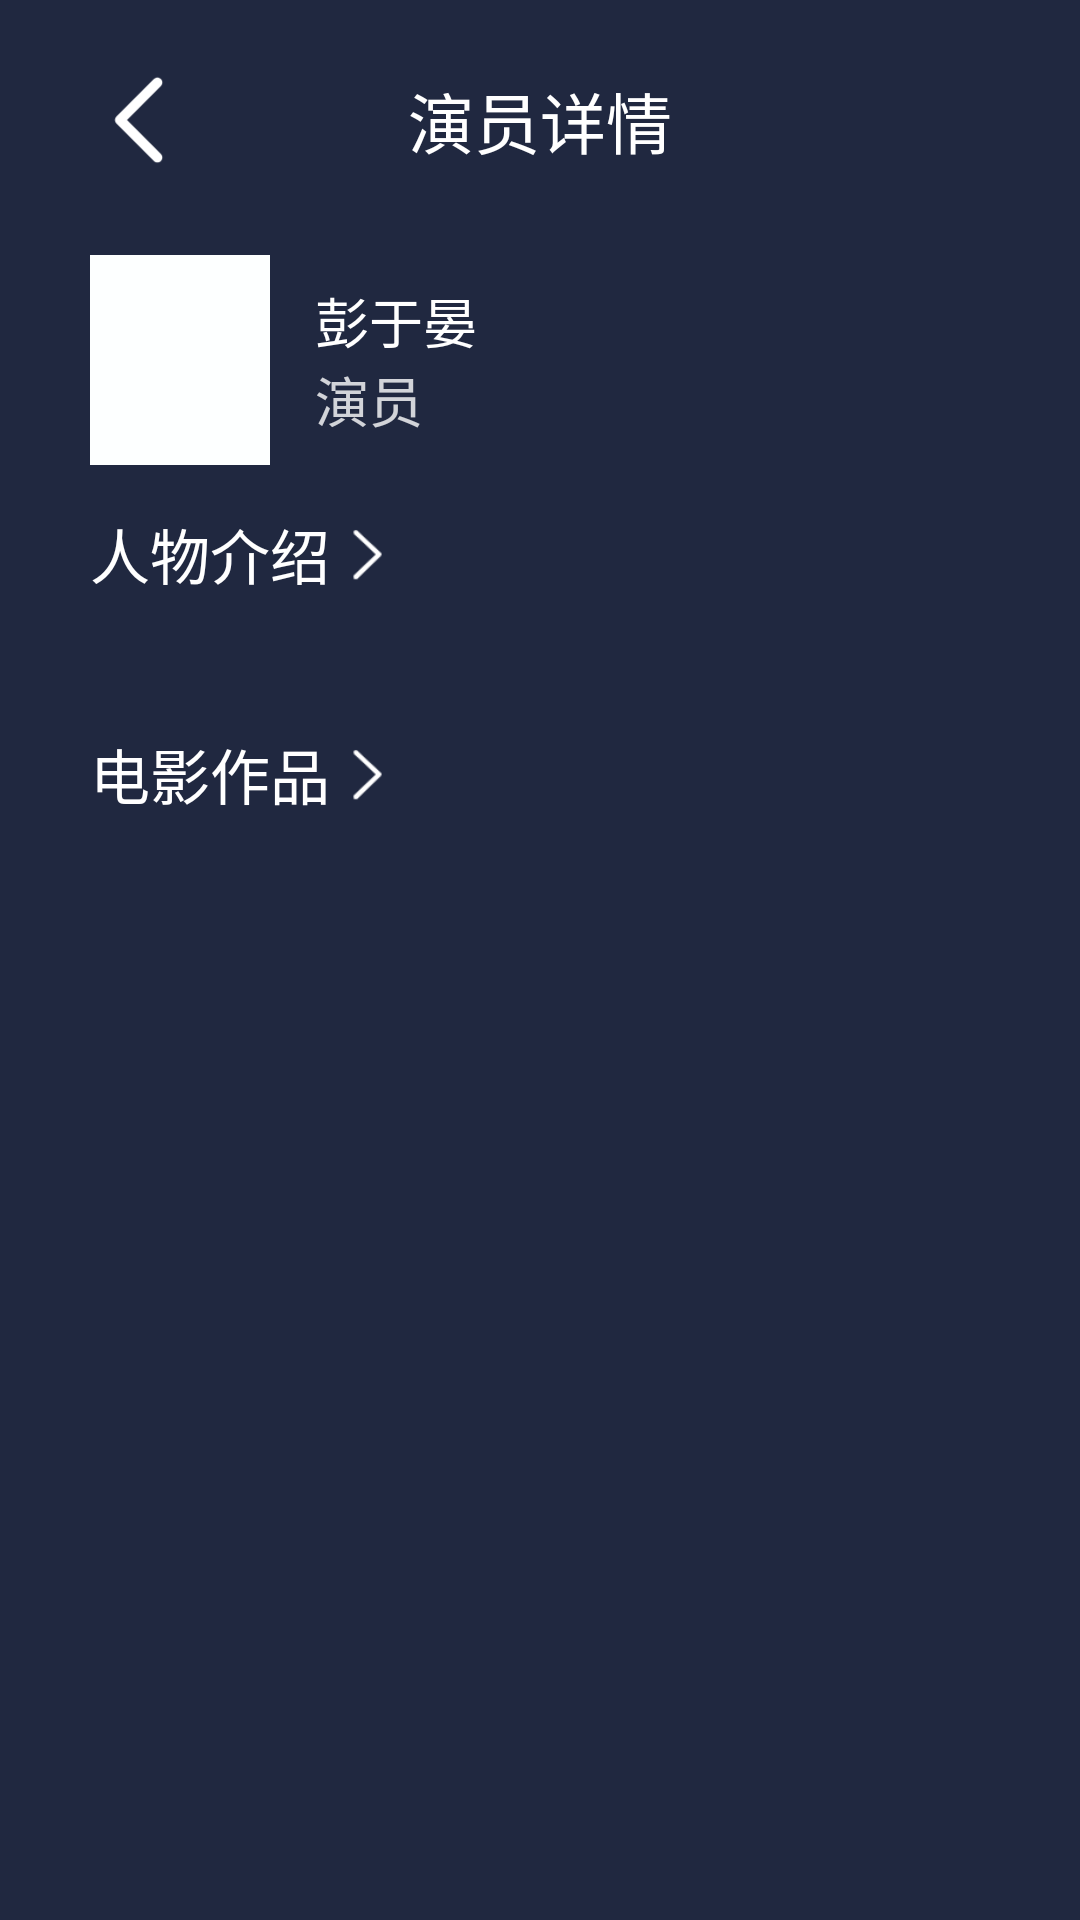

Screen size 1080×1920. Icon name, then its center in pixels as point (x, y):
back: point (138, 120)
enter: point (367, 555), point (367, 775)
